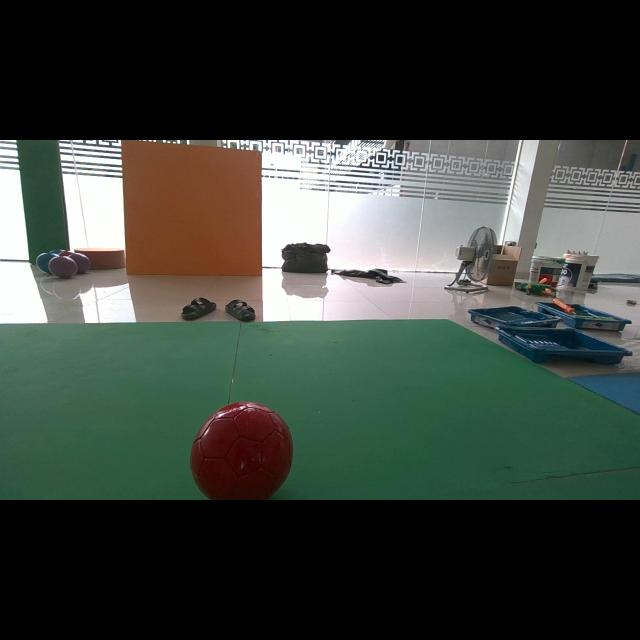R: (190, 401, 292, 499)
